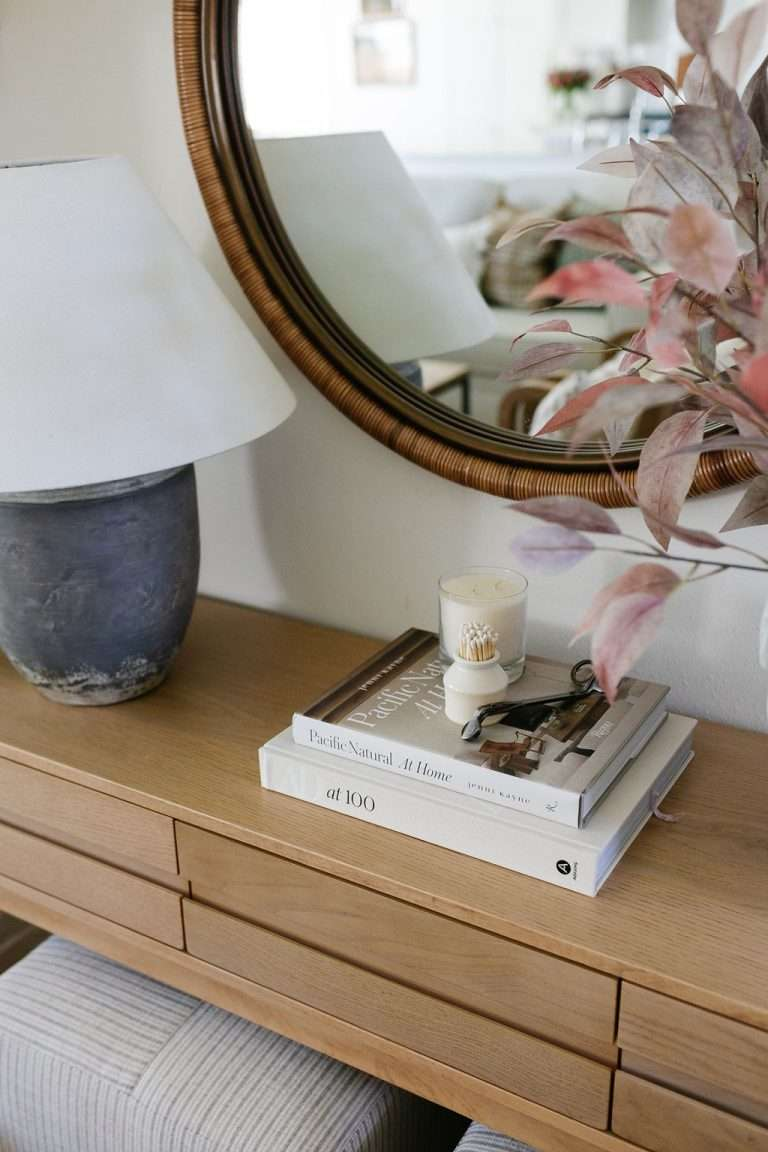not a gesture sign: (174, 0, 628, 506)
